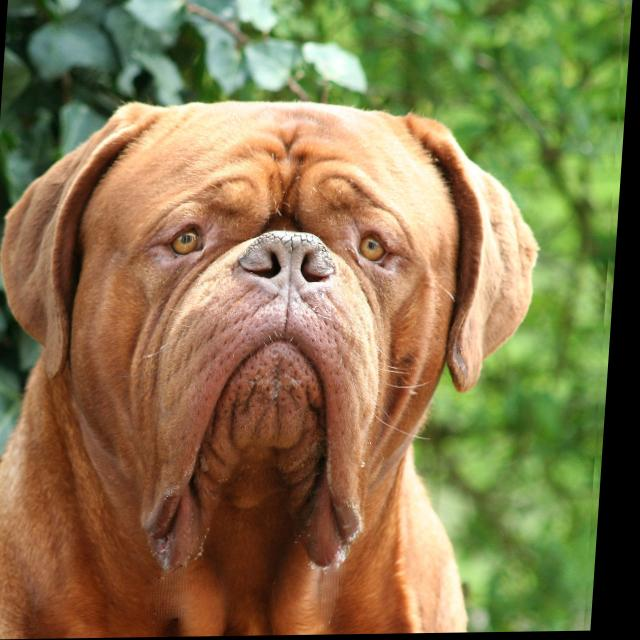dogue_de_bordeaux: (1, 95, 551, 640)
